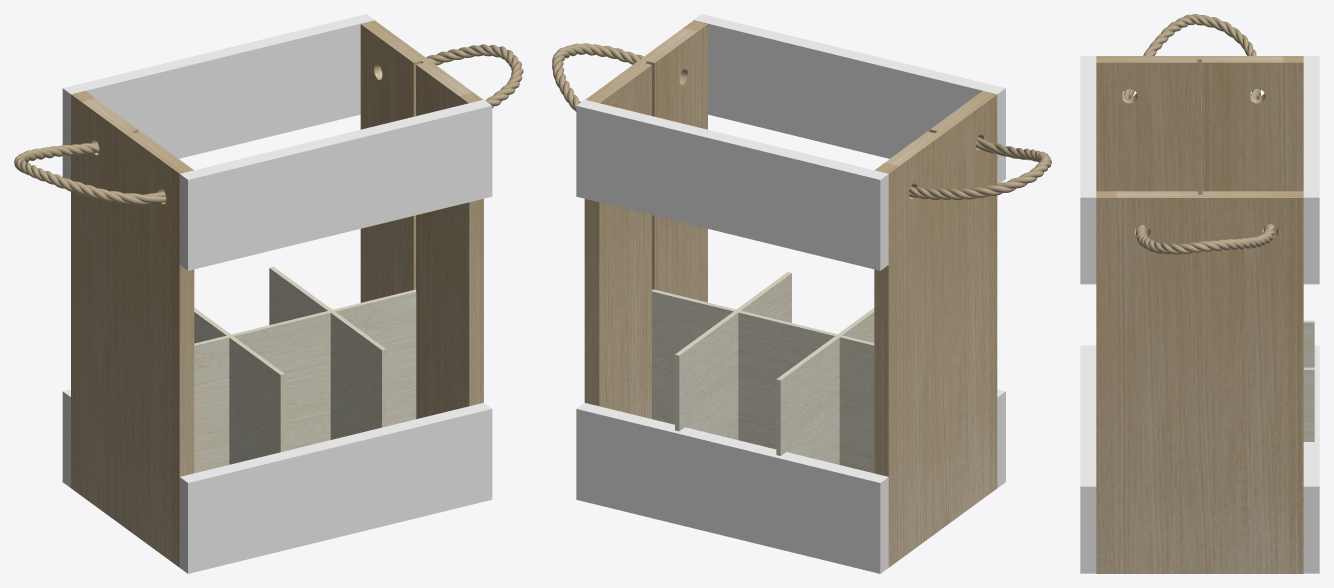
File: CAJA.glb
3 views of the same model, side by side, from view 1: azimuth 30°, elevation 25°; view 2: azimuth 150°, elevation 25°; view 3: azimuth 270°, elevation 25° (orthographic). The views are drawn at different scales.
Visible parts, largest first — view 1: Cube.003, Cube.001, Cube, Cube.002, Cube.004, Cube.007, Cube.009, Cube.008, Circle.001, Circle, Cube.005; view 2: Cube.003, Cube.004, Cube.005, Cube.002, Cube, Cube.007, Cube.009, Cube.008, Circle.001, Circle, Cube.001; view 3: Cube.002, Cube.003, Cube.001, Cube, Cube.004, Cube.005, Circle, Circle.001, Cube.009, Cube.008.
Part boxes in pixels (x1,y1,x2,y2): Cube.003: (71, 91, 194, 567); Cube.001: (179, 403, 492, 573); Cube: (179, 99, 492, 270); Cube.002: (360, 20, 483, 418); Cube.004: (62, 14, 374, 179); Cube.007: (194, 289, 416, 473); Cube.009: (269, 266, 386, 439); Cube.008: (194, 308, 284, 464); Circle.001: (14, 142, 166, 205); Circle: (379, 44, 523, 108); Cube.005: (62, 389, 70, 487); Cube.003: (874, 91, 997, 567); Cube.004: (576, 100, 888, 270); Cube.005: (576, 403, 888, 573); Cube.002: (584, 20, 707, 418); Cube: (693, 14, 1005, 183); Cube.007: (652, 289, 874, 473); Cube.009: (675, 272, 791, 439); Cube.008: (776, 308, 874, 464); Circle.001: (909, 137, 1051, 200); Circle: (552, 43, 643, 111); Cube.001: (997, 389, 1005, 487); Cube.002: (1096, 191, 1303, 573); Cube.003: (1096, 56, 1303, 230); Cube.001: (1080, 345, 1096, 573); Cube: (1080, 56, 1096, 284); Cube.004: (1303, 56, 1319, 284); Cube.005: (1303, 345, 1319, 573); Circle: (1136, 224, 1274, 254); Circle.001: (1123, 14, 1260, 100); Cube.009: (1303, 367, 1314, 441); Cube.008: (1303, 320, 1314, 367).
Bounding box in the file's own units: 0.3387 × 0.2603 × 0.15.
10 materials, 6 textured.
